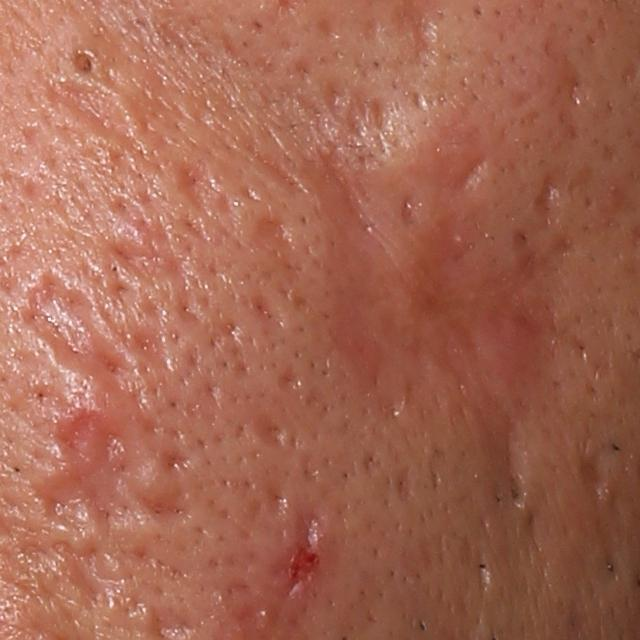atrophic_scar: (21, 277, 150, 403), (36, 414, 182, 520), (33, 74, 147, 153), (99, 185, 179, 260), (481, 418, 531, 529), (317, 84, 394, 139), (52, 539, 109, 612), (107, 236, 180, 281), (124, 319, 179, 374), (570, 446, 623, 501), (283, 514, 322, 583), (153, 439, 204, 481), (455, 150, 495, 203), (529, 170, 568, 223), (558, 58, 586, 111), (251, 419, 292, 455), (474, 550, 496, 599), (394, 194, 420, 234)
comedo: (65, 40, 101, 76)
